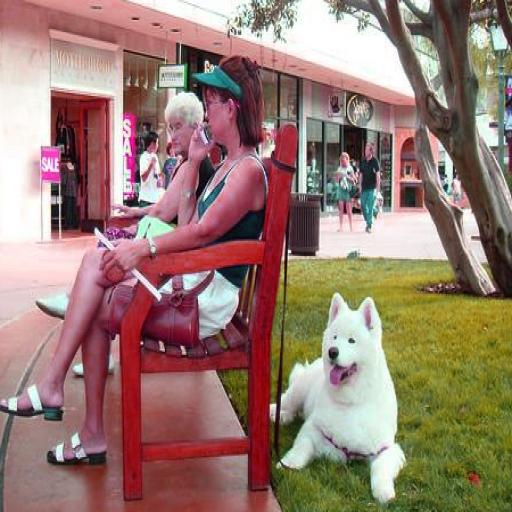dog_face: (317, 289, 380, 386)
